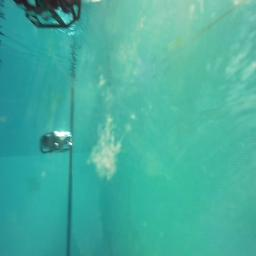Side: (15, 0, 82, 28)
front: (40, 132, 72, 154)
